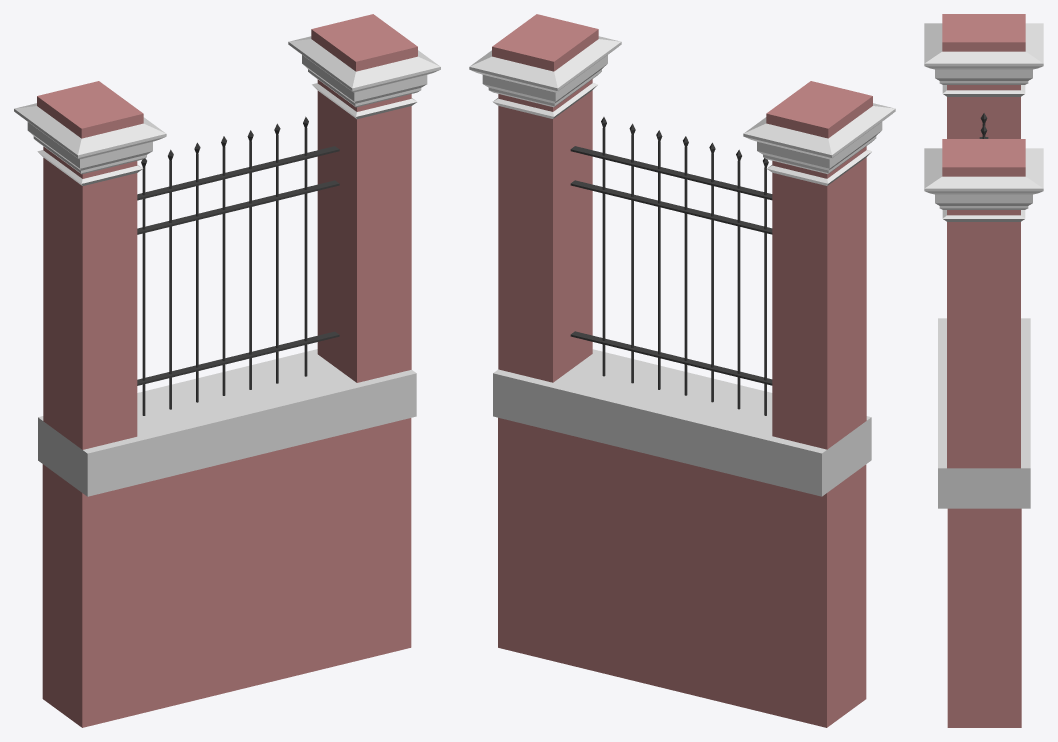
The model's file is muroFechado.dae.
3 renders of one model, left to right at view 1: azimuth 30°, elevation 25°; view 2: azimuth 150°, elevation 25°; view 3: azimuth 270°, elevation 25°, orthographic. The views are drawn at different scales.
Visible parts, largest first — view 1: Muro; view 2: Muro; view 3: Muro.
Boxes of the visible parts, box(x1,y1,x2,y2) form: Muro: box(14, 14, 440, 727); Muro: box(469, 14, 895, 727); Muro: box(924, 14, 1043, 727).
Size of the model in its own units: 2.21 by 0.6715 by 3.5.
